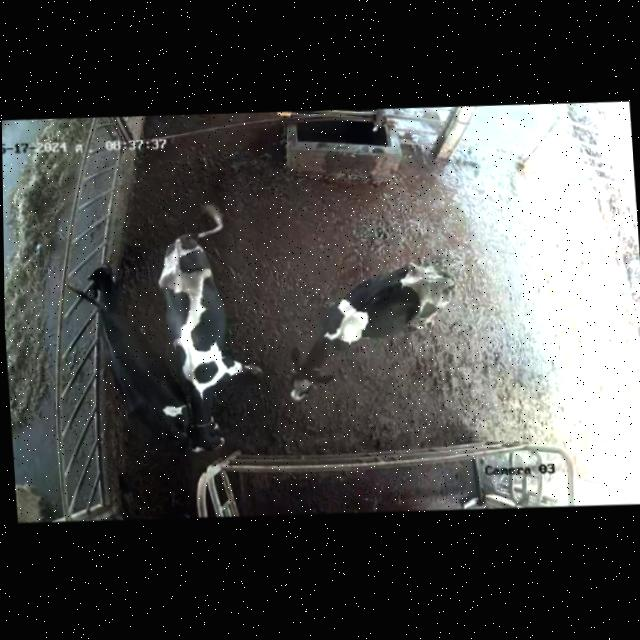stand: (274, 218, 488, 435), (147, 205, 274, 456), (78, 260, 187, 462)
